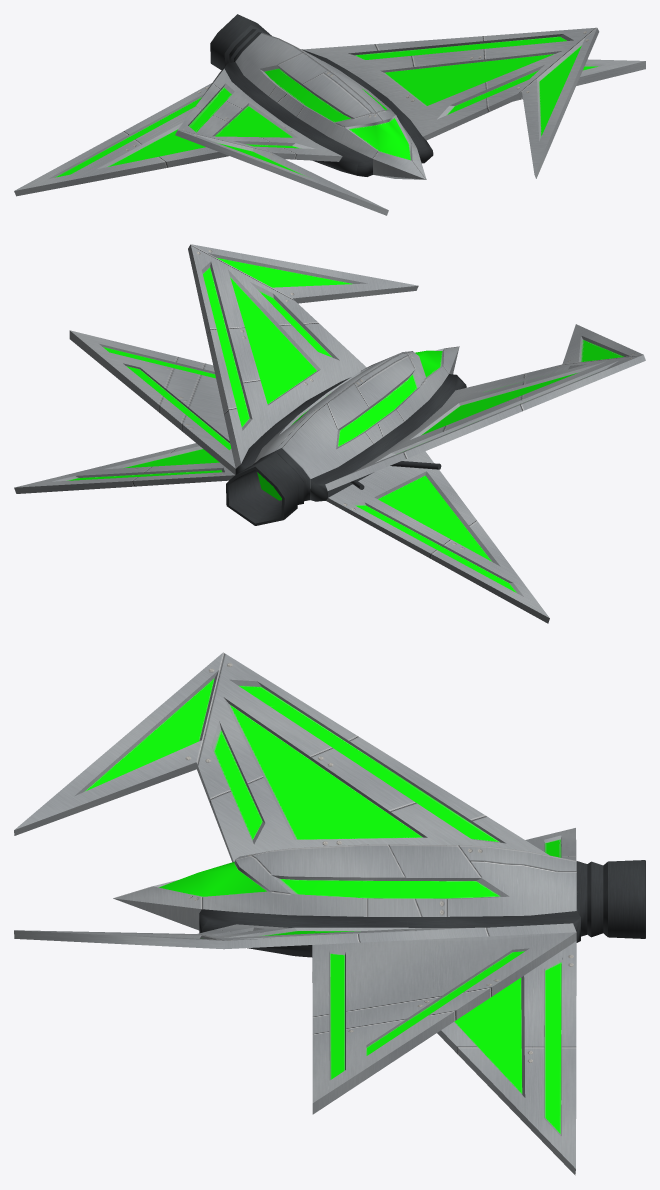
Rendered from X-Jet-2_Break1.fbx.
3 views of the same model, one above another, from view 1: azimuth 30°, elevation 25°; view 2: azimuth 150°, elevation 25°; view 3: azimuth 270°, elevation 25° (orthographic). The views are drawn at different scales.
Parts seen in each view (by area): view 1: X_Jet_3; view 2: X_Jet_3; view 3: X_Jet_3.
Part boxes in pixels (x1=…): X_Jet_3: x1=14, y1=14, x2=645, y2=215; X_Jet_3: x1=14, y1=244, x2=645, y2=623; X_Jet_3: x1=14, y1=652, x2=645, y2=1175.
Size of the model in its own units: 22.17 by 5.86 by 16.
